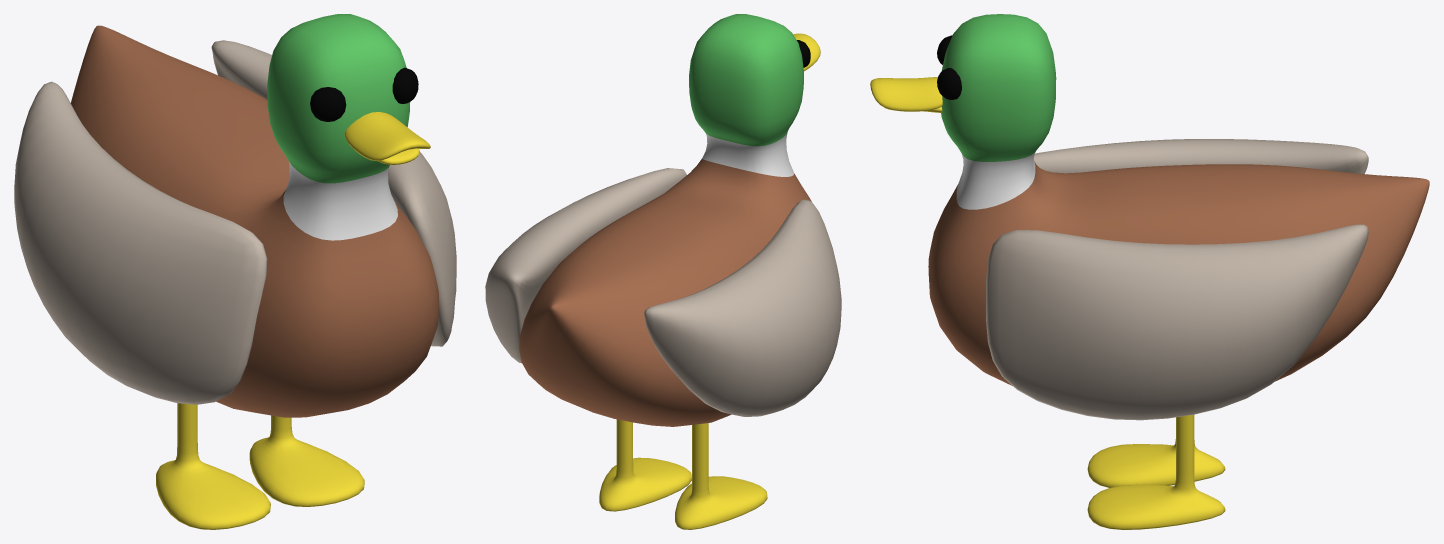
The model's file is duck.fbx.
The picture shows the model from 3 angles, left to right: view 1: azimuth 30°, elevation 25°; view 2: azimuth 150°, elevation 25°; view 3: azimuth 270°, elevation 25°; orthographic projection. The views are drawn at different scales.
Visible parts, largest first — view 1: duck; view 2: duck; view 3: duck.
Part boxes in pixels (box(x1,y1,x2,y2)): duck: box(14, 14, 456, 529); duck: box(485, 14, 841, 529); duck: box(870, 14, 1429, 529).
Bounding box in the file's own units: 390 × 538 × 580.
